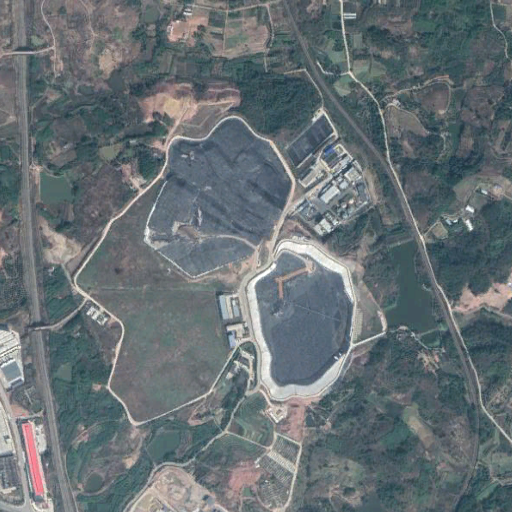lf: (144, 115, 294, 275), (244, 239, 359, 402)
